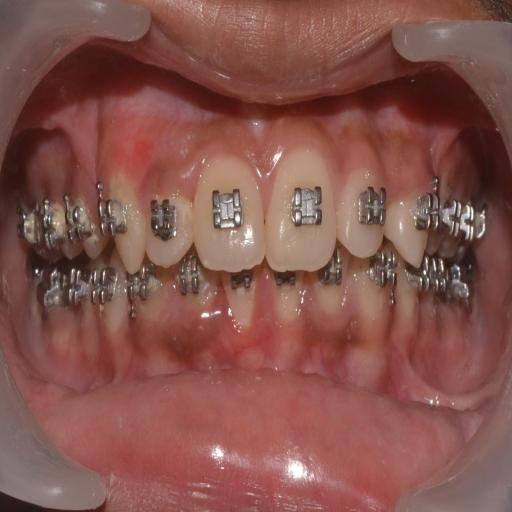correct_brace: (209, 181, 248, 235), (288, 180, 326, 234), (145, 194, 182, 245), (354, 180, 389, 232)
incorrect_brace: (335, 160, 388, 264), (140, 184, 194, 274)
